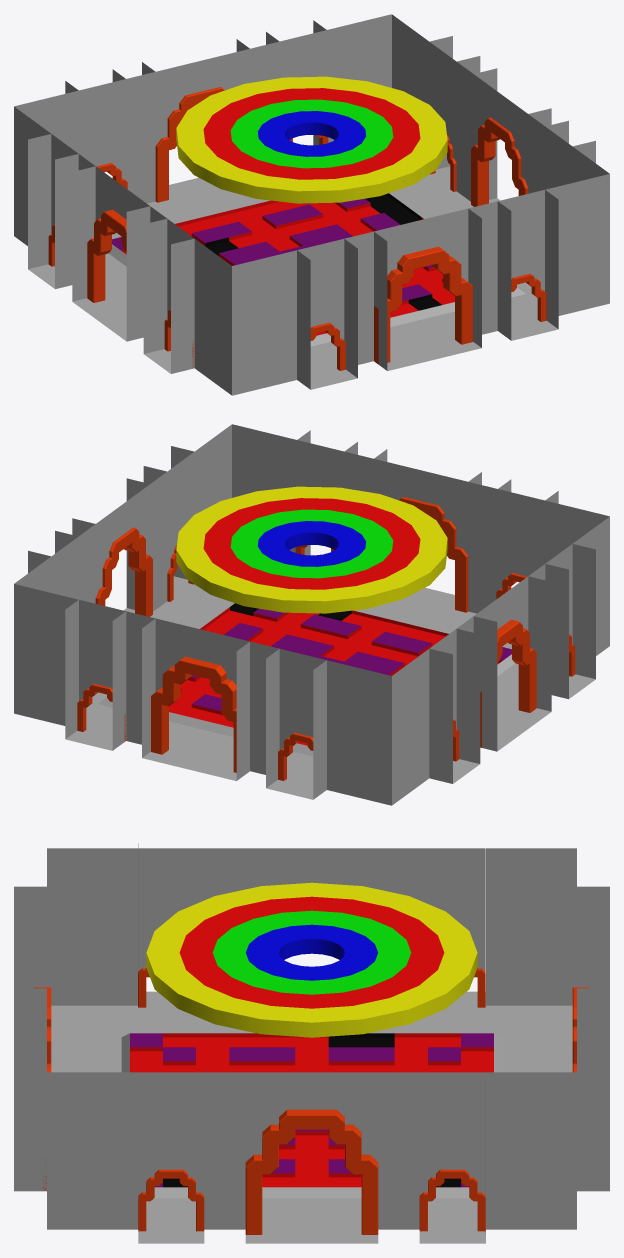
The model's file is Fase2_FBX 1.fbx.
3 renders of one model, top to bottom at view 1: azimuth 30°, elevation 25°; view 2: azimuth 150°, elevation 25°; view 3: azimuth 270°, elevation 25°, orthographic. The views are drawn at different scales.
Parts seen in each view (by area): view 1: polySurface252, pCylinder33, pPlane15, pPlane20, pPlane22, pPlane16, pPlane21, polySurface260, polySurface259, pPlane23, polySurface257, polySurface258; view 2: polySurface252, pCylinder33, pPlane15, pPlane22, pPlane20, pPlane16, pPlane21, polySurface258, polySurface259, pPlane23, polySurface257, polySurface260; view 3: polySurface252, pCylinder33, pPlane21, pPlane15, pPlane16, pPlane23, polySurface259, polySurface257.
Part boxes in pixels (box(x1,y1,x2,y2)): polySurface252: box(14, 14, 609, 395); pCylinder33: box(176, 76, 447, 203); pPlane15: box(108, 193, 525, 346); pPlane20: box(79, 30, 326, 180); pPlane22: box(297, 190, 544, 339); pPlane16: box(103, 174, 538, 376); pPlane21: box(429, 42, 572, 189); polySurface260: box(310, 246, 546, 370); polySurface259: box(430, 117, 528, 206); pPlane23: box(51, 134, 193, 318); polySurface257: box(48, 209, 193, 367); polySurface258: box(96, 87, 328, 202); polySurface252: box(14, 424, 609, 805); pCylinder33: box(176, 486, 447, 613); pPlane15: box(98, 603, 515, 756); pPlane22: box(297, 440, 544, 590); pPlane20: box(79, 600, 326, 749); pPlane16: box(85, 584, 520, 786); pPlane21: box(51, 452, 194, 599); polySurface258: box(77, 656, 313, 780); polySurface259: box(95, 527, 193, 616); pPlane23: box(430, 544, 572, 728); polySurface257: box(453, 619, 575, 761); polySurface260: box(295, 497, 527, 612); polySurface252: box(14, 843, 609, 1243); pCylinder33: box(146, 882, 477, 1037); pPlane21: box(138, 1072, 485, 1195); pPlane15: box(121, 1033, 502, 1198); pPlane16: box(51, 1005, 572, 1229); pPlane23: box(138, 848, 485, 971); polySurface259: box(138, 1109, 485, 1234); polySurface257: box(138, 968, 485, 1007).
Bounding box in the file's own units: 72 × 22 × 72.
